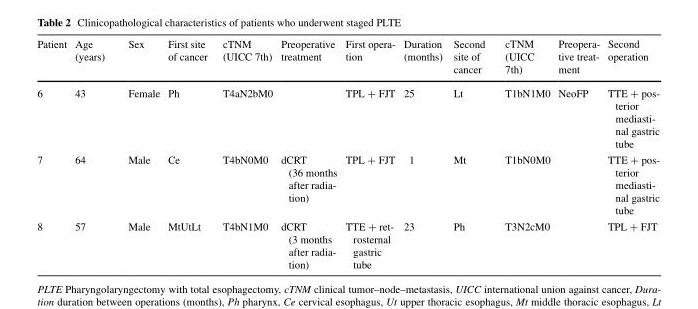table: (36, 37, 659, 269)
table column: (276, 37, 340, 269), (214, 37, 276, 269), (494, 37, 553, 269), (340, 37, 398, 269), (603, 37, 659, 269), (163, 37, 214, 269), (553, 37, 603, 269), (398, 37, 447, 269), (115, 37, 163, 269), (447, 37, 494, 269), (70, 37, 115, 269), (36, 37, 70, 269)
table column header: (36, 37, 659, 80)
table row: (36, 80, 659, 151), (36, 151, 659, 217), (36, 217, 659, 269), (36, 37, 659, 80)
